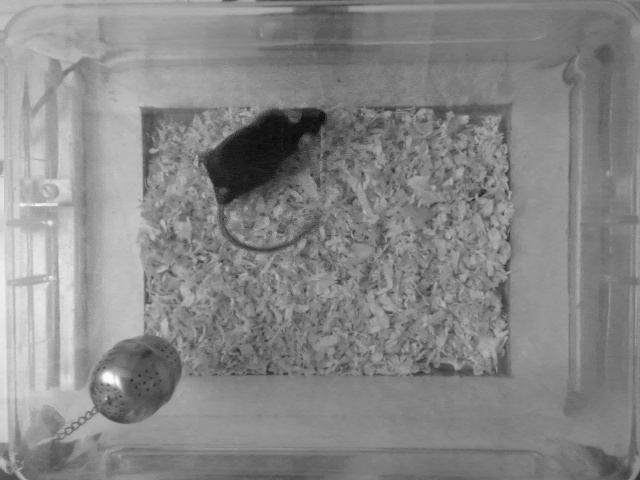mice: (195, 103, 329, 251)
